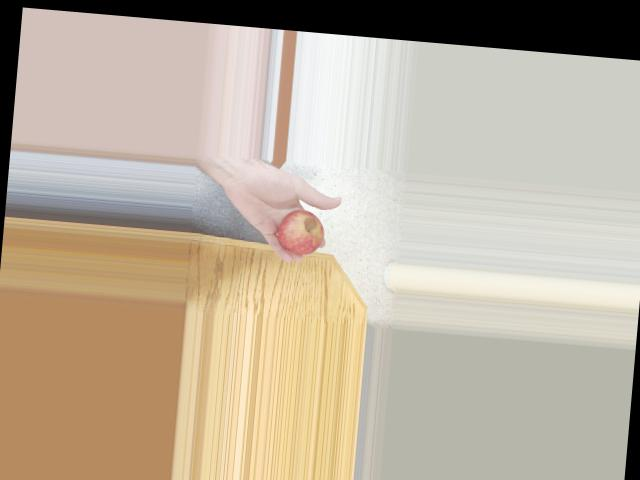apple: (267, 206, 328, 258)
